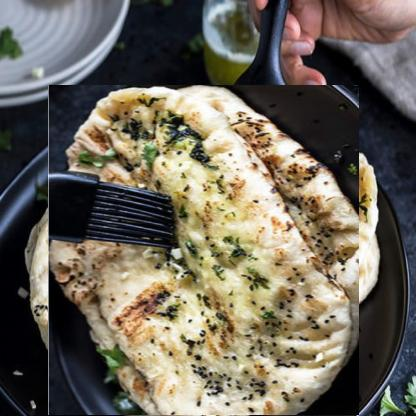naan: (38, 94, 370, 416)
